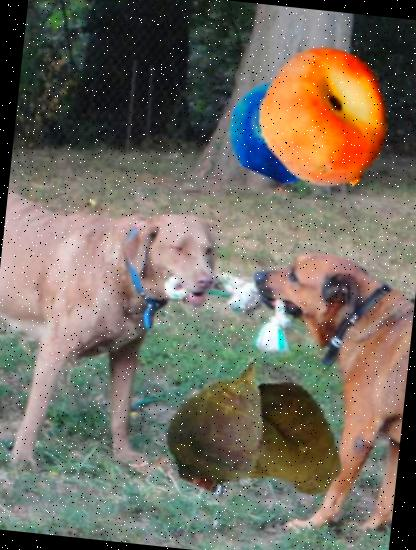Beetroot: (142, 340, 306, 503)
Ginger: (212, 378, 350, 516)
Huckleberry: (224, 74, 338, 188)
Peach: (252, 42, 403, 192)
